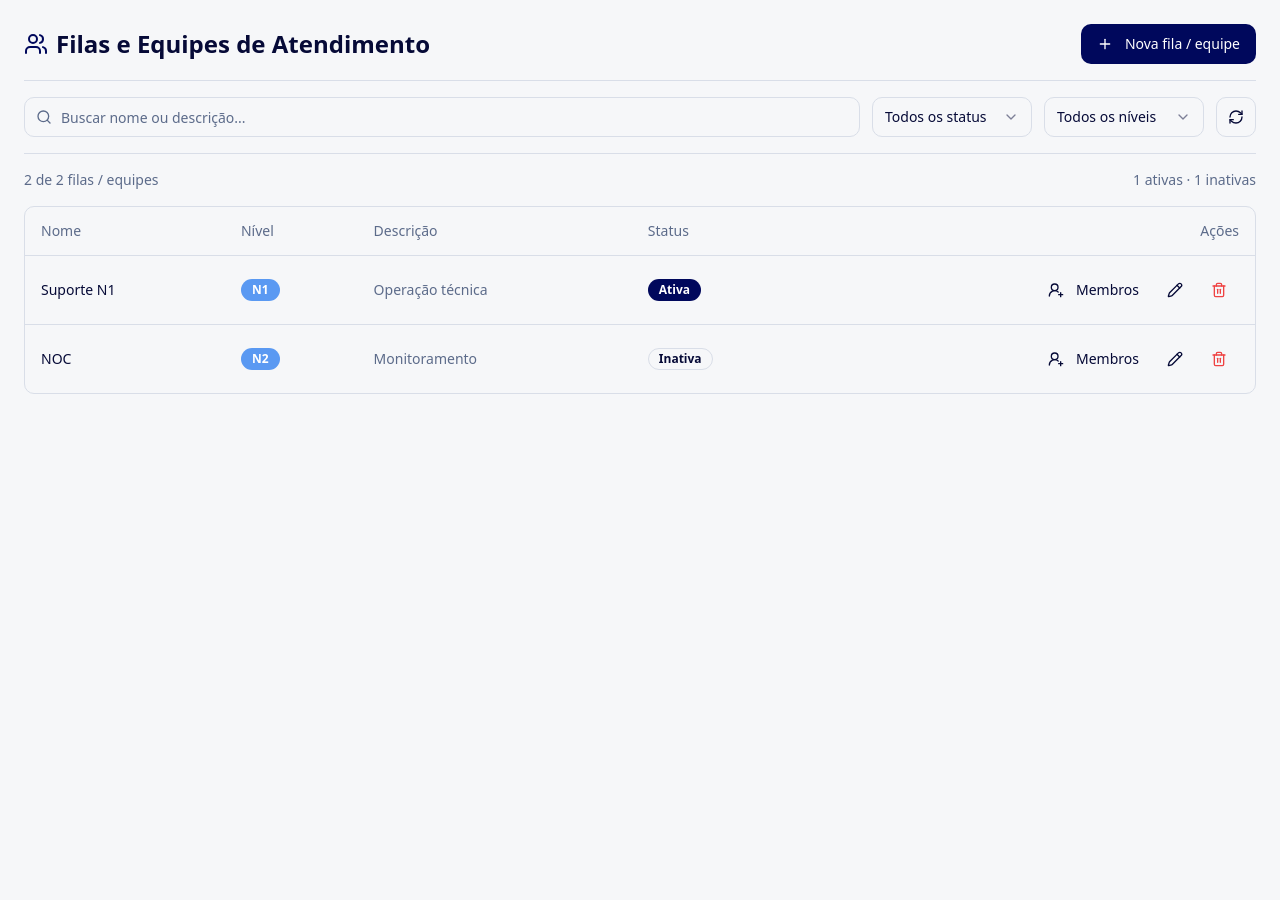
pesquisa membros sem remover outras associações
Click the button with aria-label "Membros de Suporte N1" at (1094,290), box x1=1036 y1=272 x2=1151 y2=308
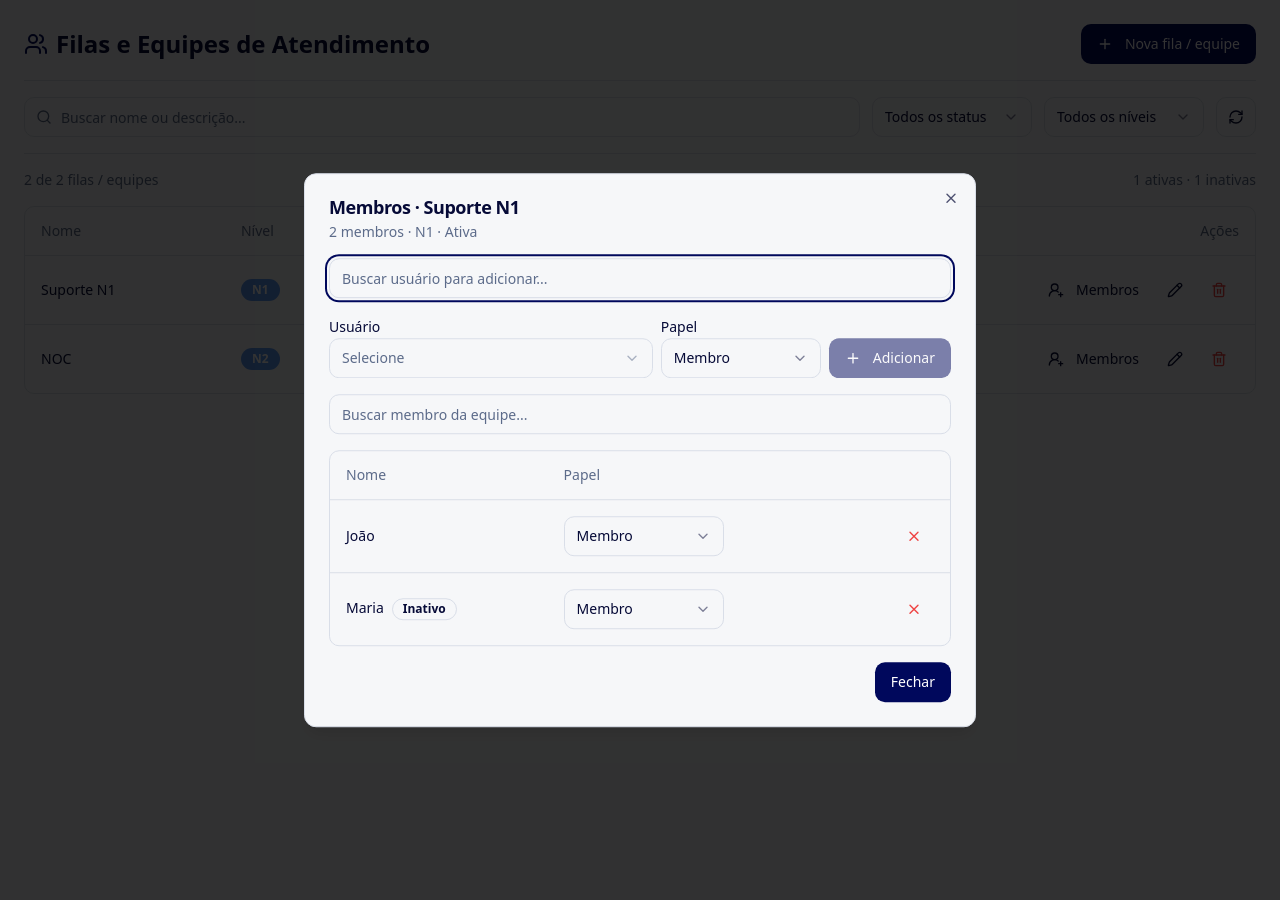
Now the text "João" is shown, box x1=330 y1=499 x2=548 y2=572
Type "joao" into the field named "Pesquisar membros" at (640,414), box x1=329 y1=394 x2=951 y2=434
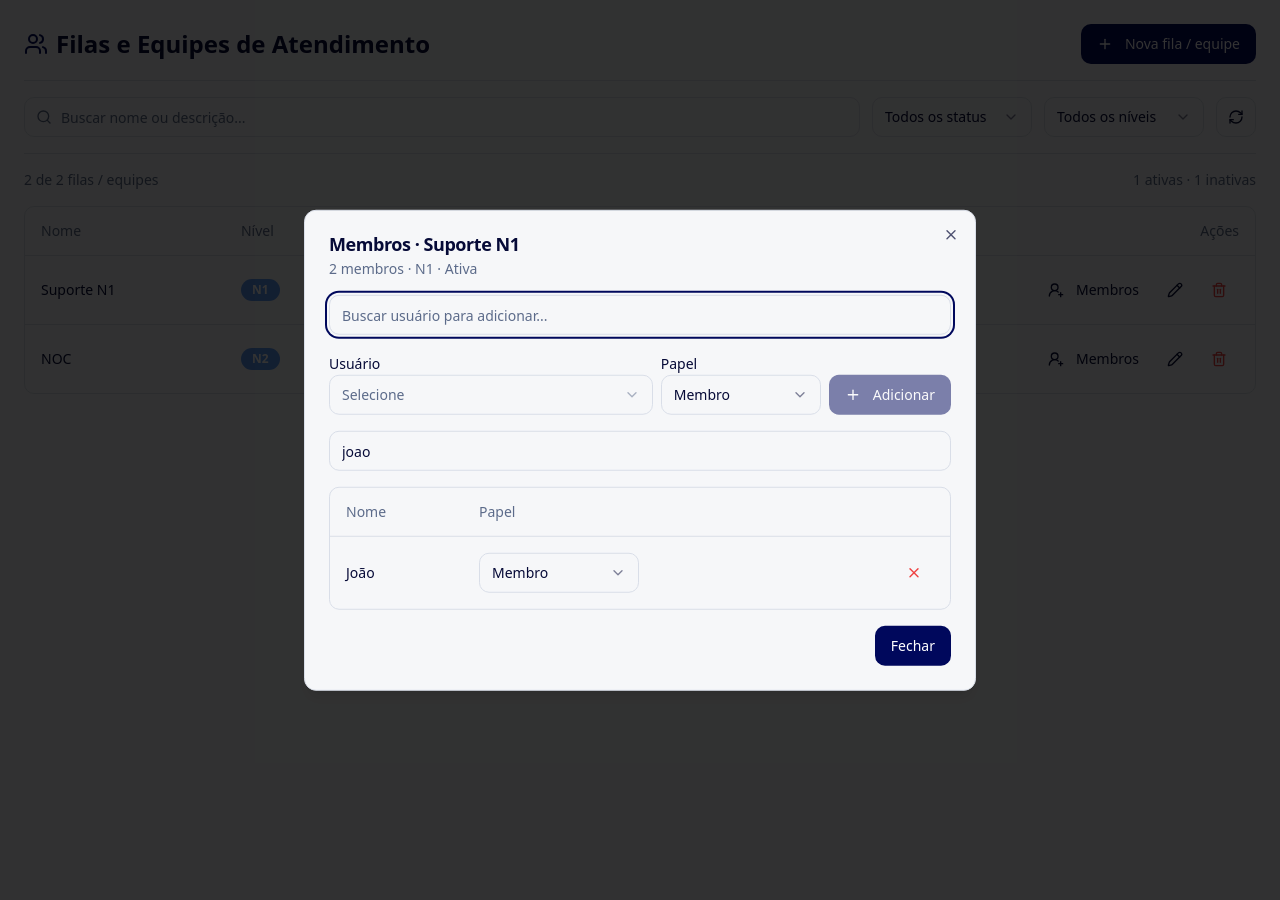
Now the text "João" is shown, box x1=330 y1=536 x2=463 y2=608
Now the text "Maria" is gone
Clear the field named "Pesquisar membros" at (640,451), box x1=329 y1=431 x2=951 y2=471
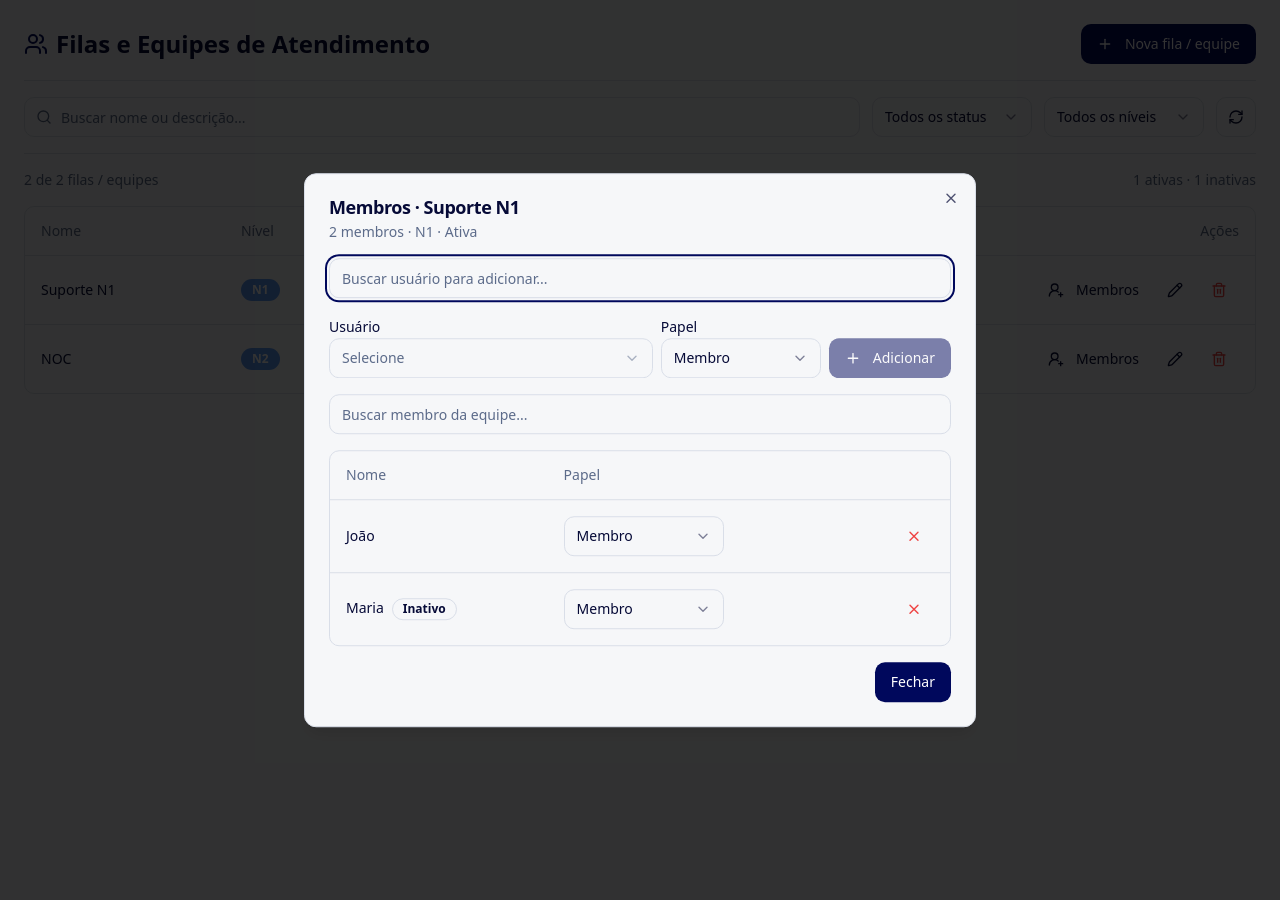
Now the text "Maria" is shown, box x1=346 y1=598 x2=384 y2=617
